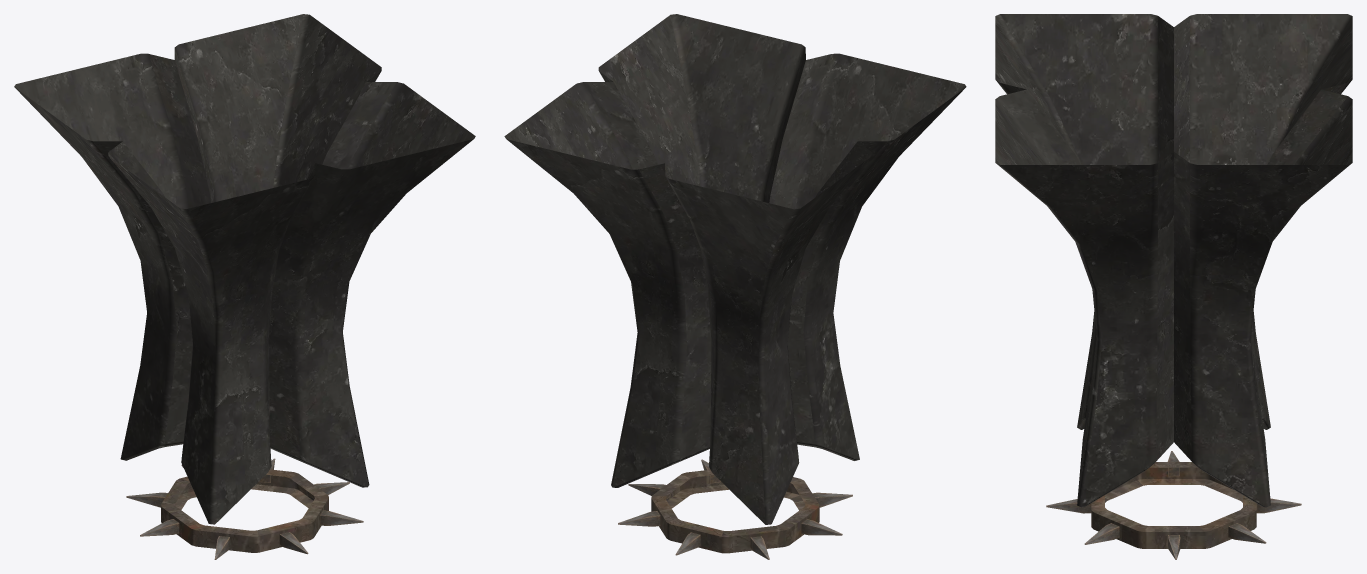
The picture shows the model from 3 angles, left to right: view 1: azimuth 30°, elevation 25°; view 2: azimuth 150°, elevation 25°; view 3: azimuth 270°, elevation 25°; orthographic projection. The views are drawn at different scales.
Parts seen in each view (by area): view 1: SM_Dowdun_Pillar_A_03_LOD0; view 2: SM_Dowdun_Pillar_A_03_LOD0; view 3: SM_Dowdun_Pillar_A_03_LOD0.
Boxes of the visible parts, x1=… form: SM_Dowdun_Pillar_A_03_LOD0: x1=14, y1=14, x2=475, y2=559; SM_Dowdun_Pillar_A_03_LOD0: x1=504, y1=14, x2=966, y2=559; SM_Dowdun_Pillar_A_03_LOD0: x1=995, y1=14, x2=1352, y2=559.
Size of the model in its own units: 1.89 by 2.48 by 1.89.
2 materials, 2 textured.
